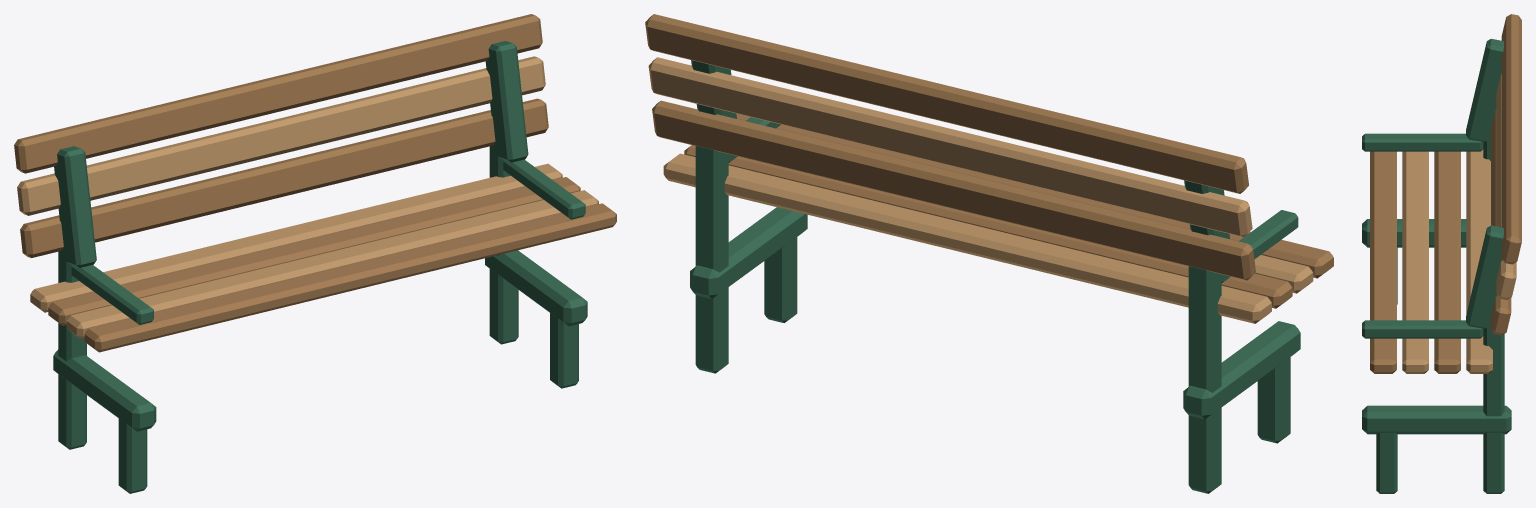
The picture shows the model from 3 angles, left to right: view 1: azimuth 30°, elevation 25°; view 2: azimuth 150°, elevation 25°; view 3: azimuth 270°, elevation 25°; orthographic projection. The views are drawn at different scales.
Visible parts, largest first — view 1: lane_wood, lane_wood_light, lane_shutter_dark; view 2: lane_wood, lane_wood_light, lane_shutter_dark; view 3: lane_shutter_dark, lane_wood, lane_wood_light.
Boxes of the visible parts, box(x1,y1,x2,y2) form: lane_wood: box(14, 14, 616, 352); lane_wood_light: box(17, 56, 598, 338); lane_shutter_dark: box(53, 41, 587, 493); lane_wood: box(645, 14, 1333, 308); lane_wood_light: box(648, 57, 1313, 323); lane_shutter_dark: box(690, 60, 1300, 493); lane_shutter_dark: box(1362, 38, 1511, 493); lane_wood: box(1370, 14, 1521, 373); lane_wood_light: box(1402, 74, 1516, 373).
Size of the model in its own units: 1.5 by 0.8438 by 0.4483.
